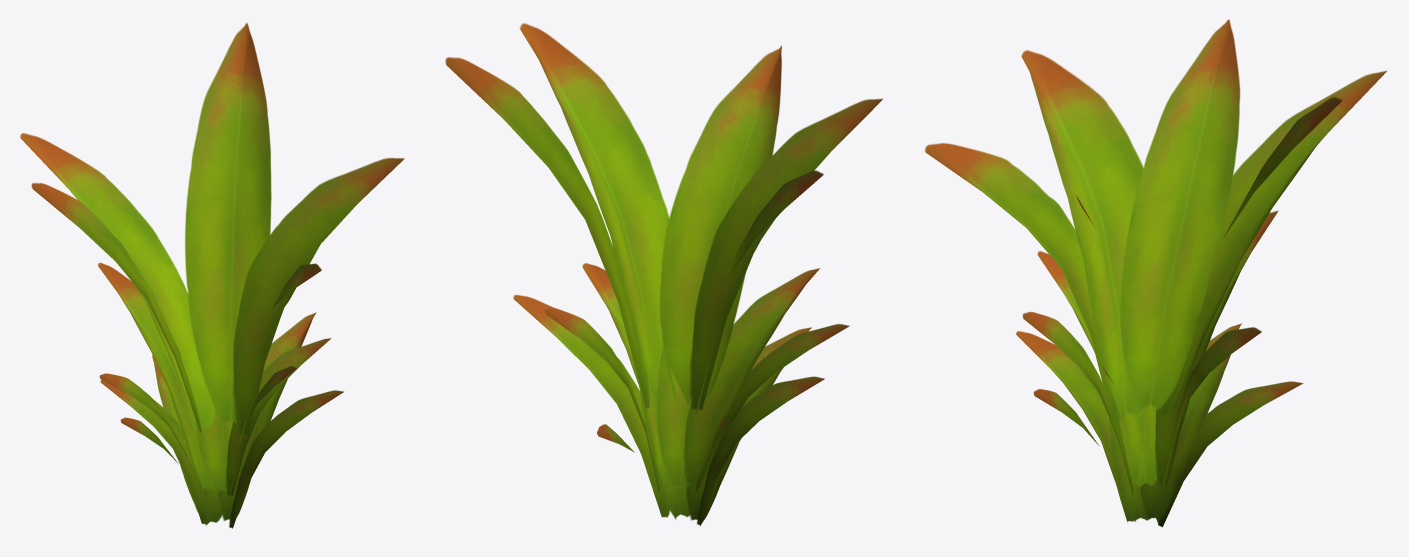
The picture shows the model from 3 angles, left to right: view 1: azimuth 30°, elevation 25°; view 2: azimuth 150°, elevation 25°; view 3: azimuth 270°, elevation 25°; orthographic projection. The views are drawn at different scales.
Parts seen in each view (by area): view 1: Plant_1_Big; view 2: Plant_1_Big; view 3: Plant_1_Big.
Boxes of the visible parts, x1,y1,x2,y2 form: Plant_1_Big: [20, 23, 404, 528]; Plant_1_Big: [445, 23, 883, 525]; Plant_1_Big: [924, 19, 1387, 527].
Size of the model in its own units: 2.89 by 3.76 by 3.13.
Materials: 1 (1 with a texture image).
